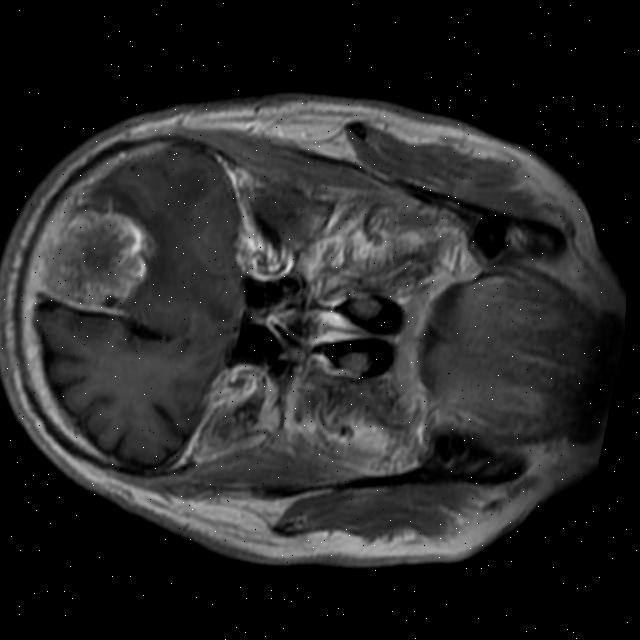Meningioma: (30, 197, 161, 321)
